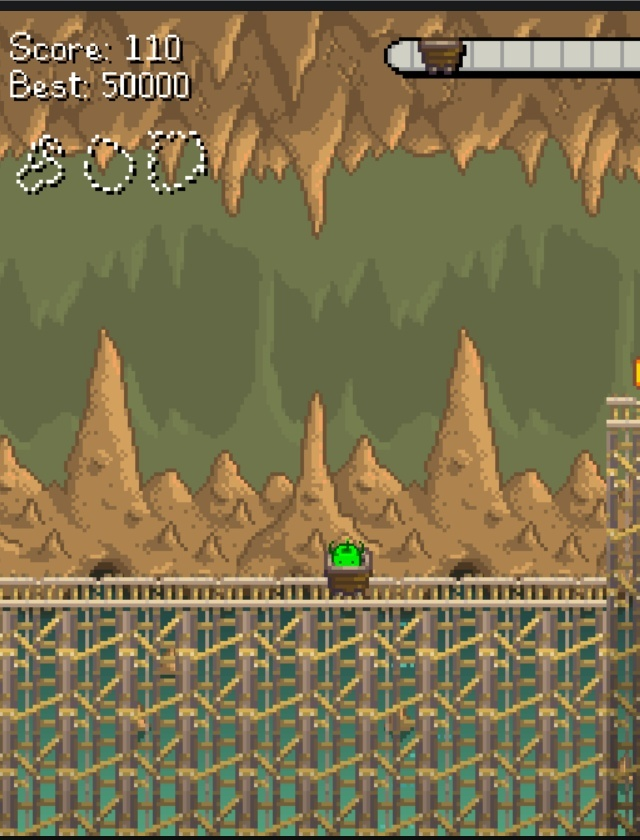minecart: (325, 539, 370, 592)
tracks: (0, 566, 311, 614), (599, 388, 640, 432)
